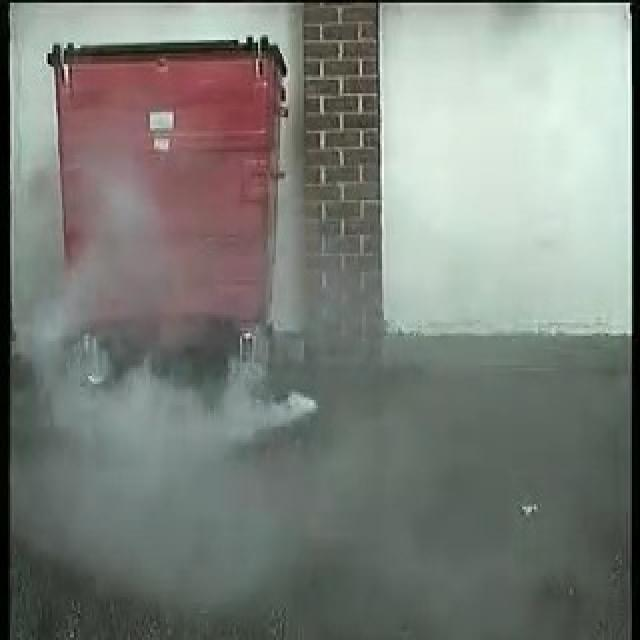smoke: (37, 260, 320, 451)
